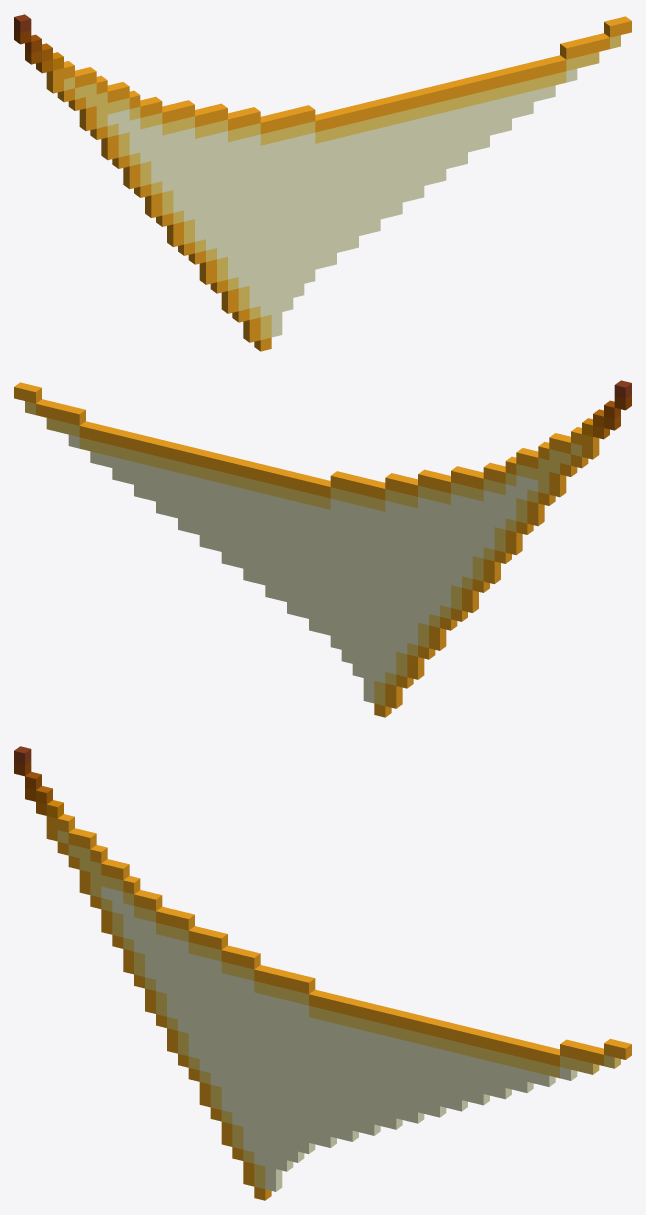
Rendered from Fight_029_2_05_fx.obj.
3 views of the same model, one above another, from view 1: azimuth 30°, elevation 25°; view 2: azimuth 150°, elevation 25°; view 3: azimuth 330°, elevation 25° (orthographic).
Size of the model in its own units: 5.6 by 3.4 by 0.1.
Materials: 1 (1 with a texture image).
